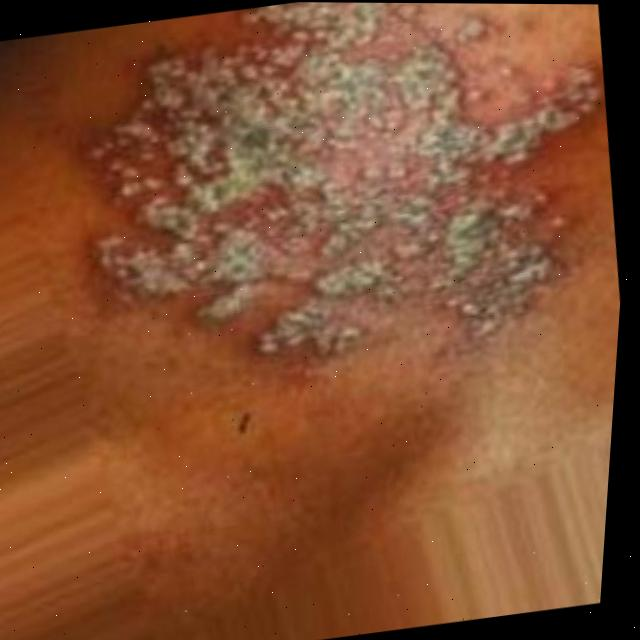Shingles: (48, 1, 640, 403)
